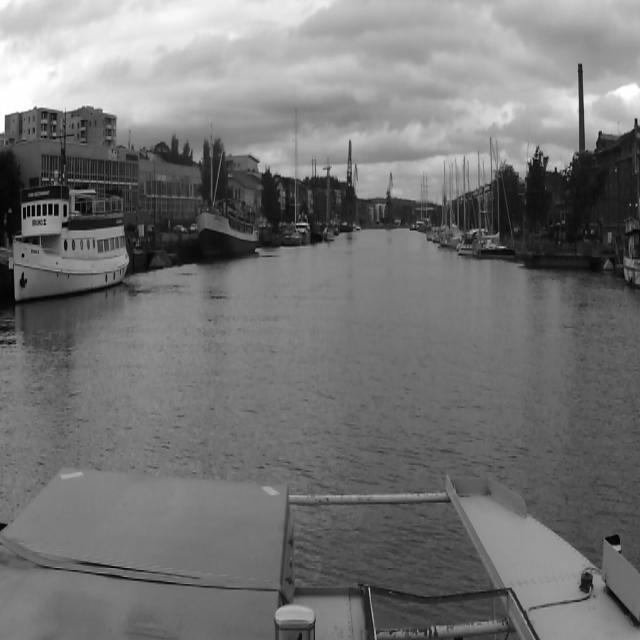ship: (4, 146, 132, 310), (456, 140, 501, 257), (195, 195, 260, 264), (284, 101, 302, 247), (323, 154, 334, 242)
